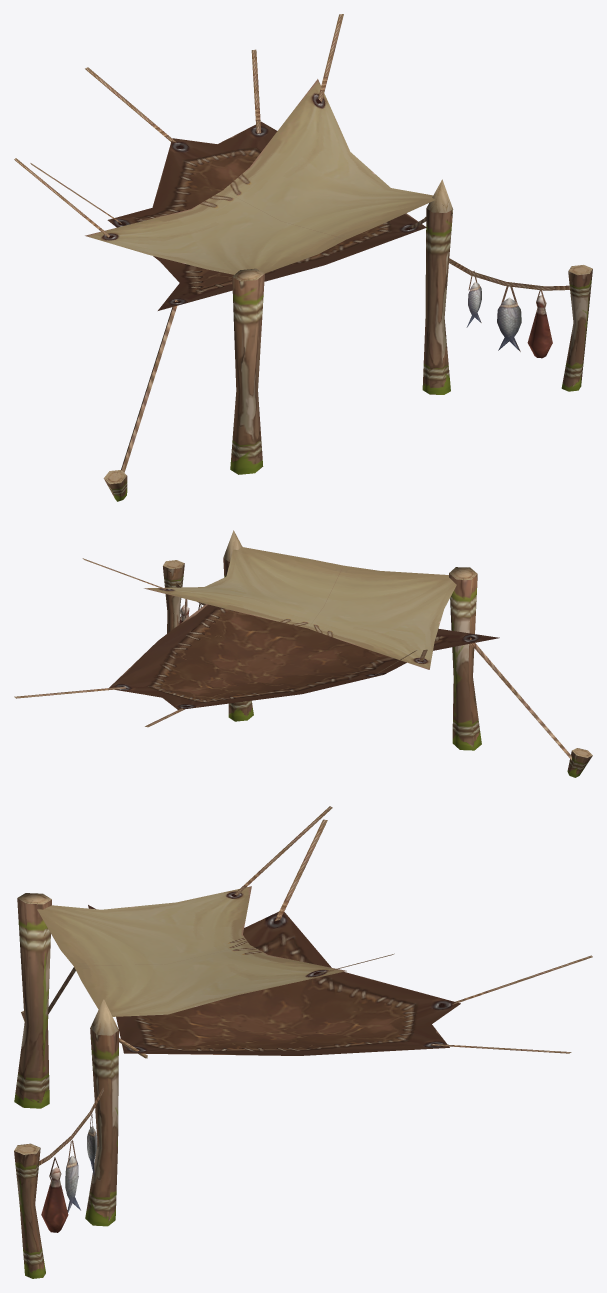
The model's file is Map_08_tent01.FBX.
3 renders of one model, top to bottom at view 1: azimuth 30°, elevation 25°; view 2: azimuth 150°, elevation 25°; view 3: azimuth 270°, elevation 25°, orthographic. The views are drawn at different scales.
Parts seen in each view (by area): view 1: Map_08_tent01; view 2: Map_08_tent01; view 3: Map_08_tent01.
Boxes of the visible parts, box(x1,y1,x2,y2) form: Map_08_tent01: box(14, 14, 592, 501); Map_08_tent01: box(14, 530, 592, 777); Map_08_tent01: box(14, 806, 592, 1278).
Bounding box in the file's own units: 350 × 188 × 339.
1 material, 1 textured.
